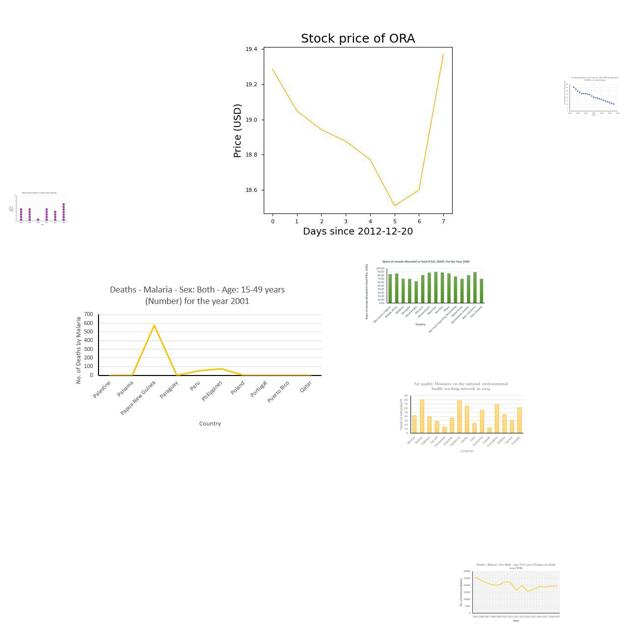Graph: (197, 21, 511, 237), (69, 283, 325, 432), (361, 259, 489, 334), (396, 380, 525, 454), (459, 562, 562, 623), (563, 76, 621, 117), (7, 191, 69, 227)
